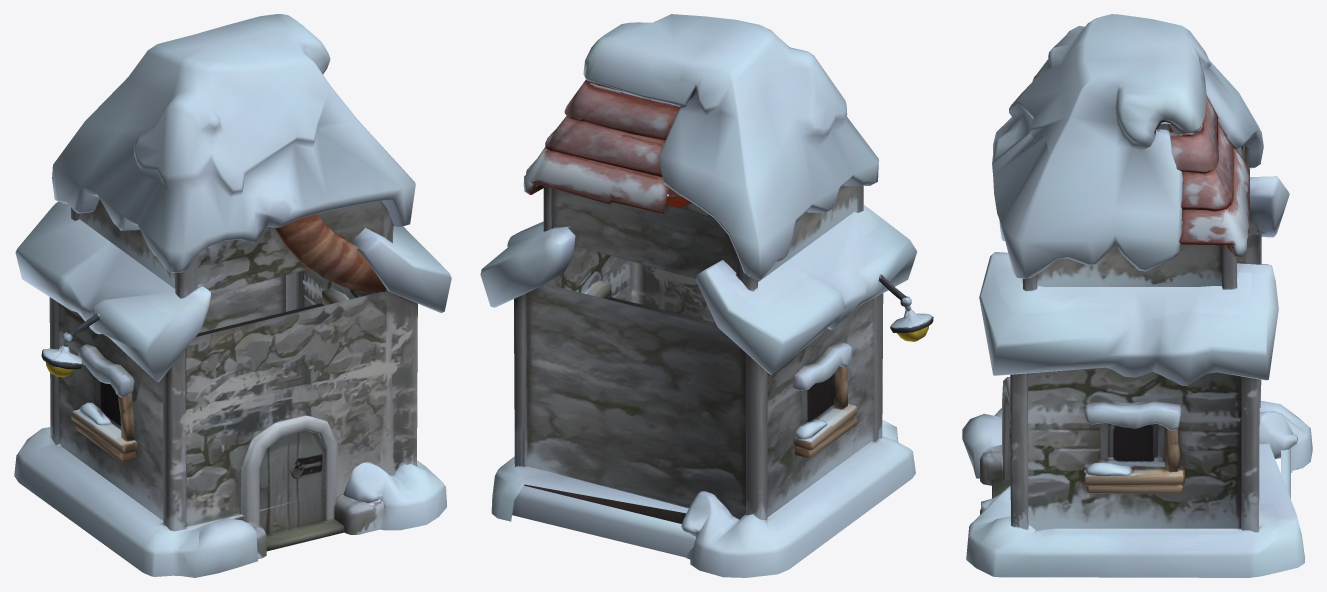
The model's file is selected.glb.
3 renders of one model, left to right at view 1: azimuth 30°, elevation 25°; view 2: azimuth 150°, elevation 25°; view 3: azimuth 270°, elevation 25°, orthographic. The views are drawn at different scales.
Parts seen in each view (by area): view 1: tripo_node_1bacef48-9dc5-4903-9502-a021ecf4b153; view 2: tripo_node_1bacef48-9dc5-4903-9502-a021ecf4b153; view 3: tripo_node_1bacef48-9dc5-4903-9502-a021ecf4b153.
Boxes of the visible parts, x1,y1,x2,y2 form: tripo_node_1bacef48-9dc5-4903-9502-a021ecf4b153: (14, 14, 451, 577); tripo_node_1bacef48-9dc5-4903-9502-a021ecf4b153: (480, 14, 933, 577); tripo_node_1bacef48-9dc5-4903-9502-a021ecf4b153: (962, 14, 1312, 577).
Size of the model in its own units: 0.8535 by 0.998 by 0.6855.
1 material, 1 textured.
